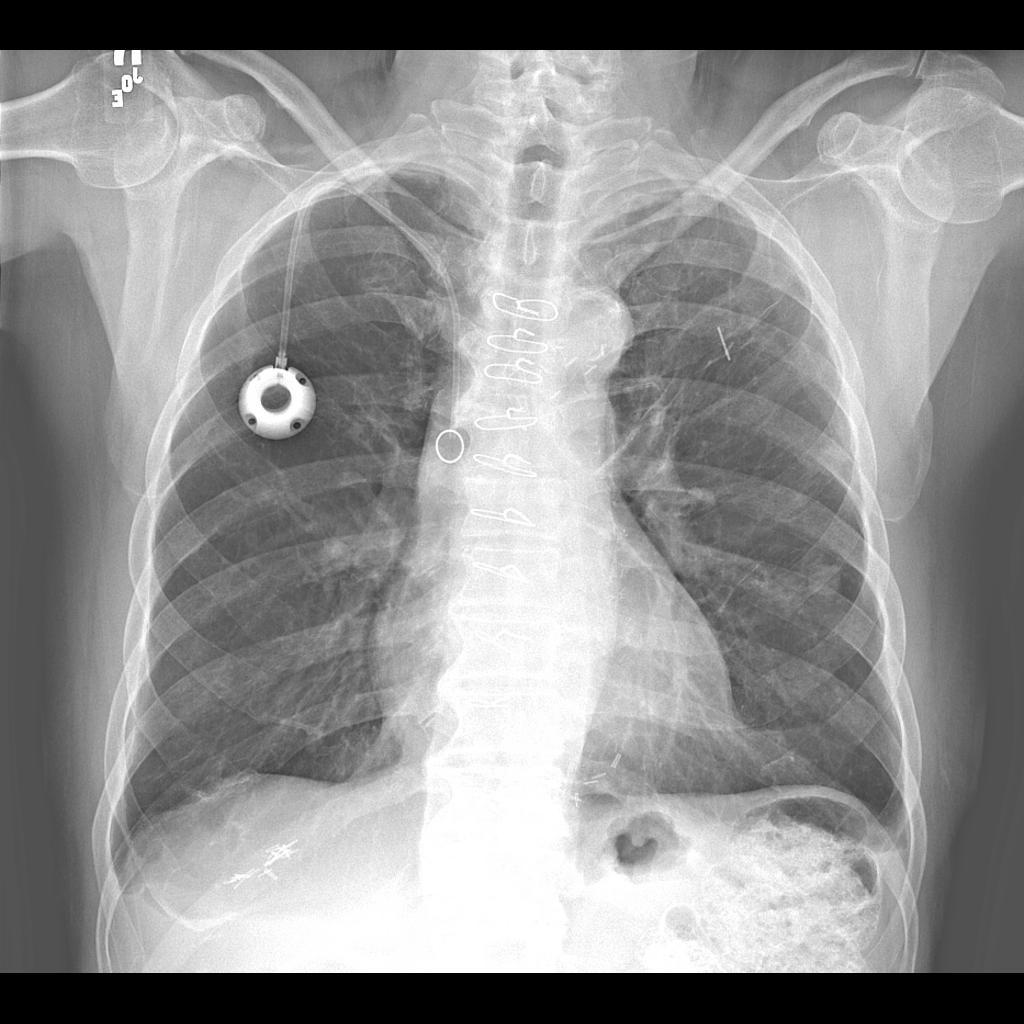Nodule: (809, 559, 850, 610)
